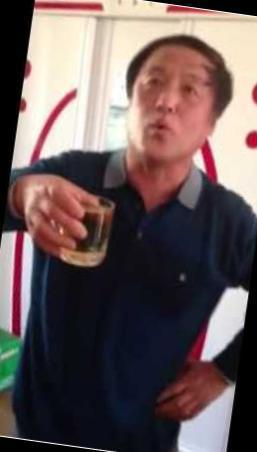Drunk: (130, 50, 209, 159)
